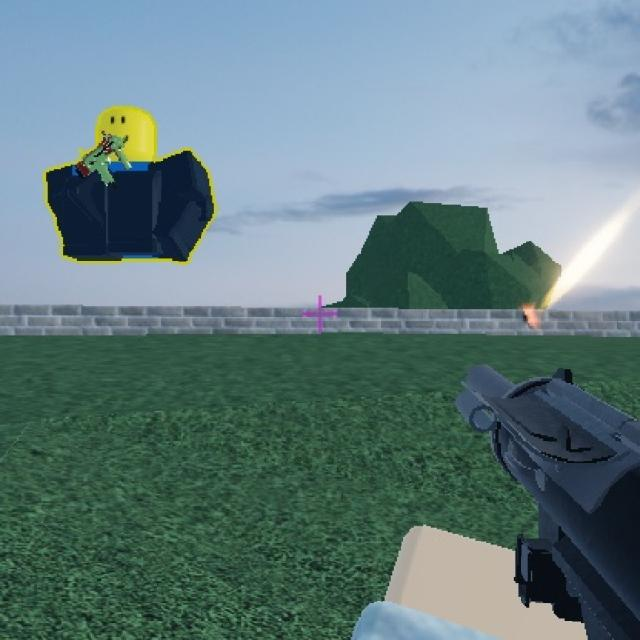player: (51, 101, 186, 279)
